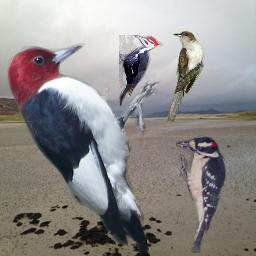Cuckoo: (167, 31, 204, 122)
Woodpecker: (6, 43, 165, 251), (176, 134, 228, 253), (119, 35, 163, 108)
